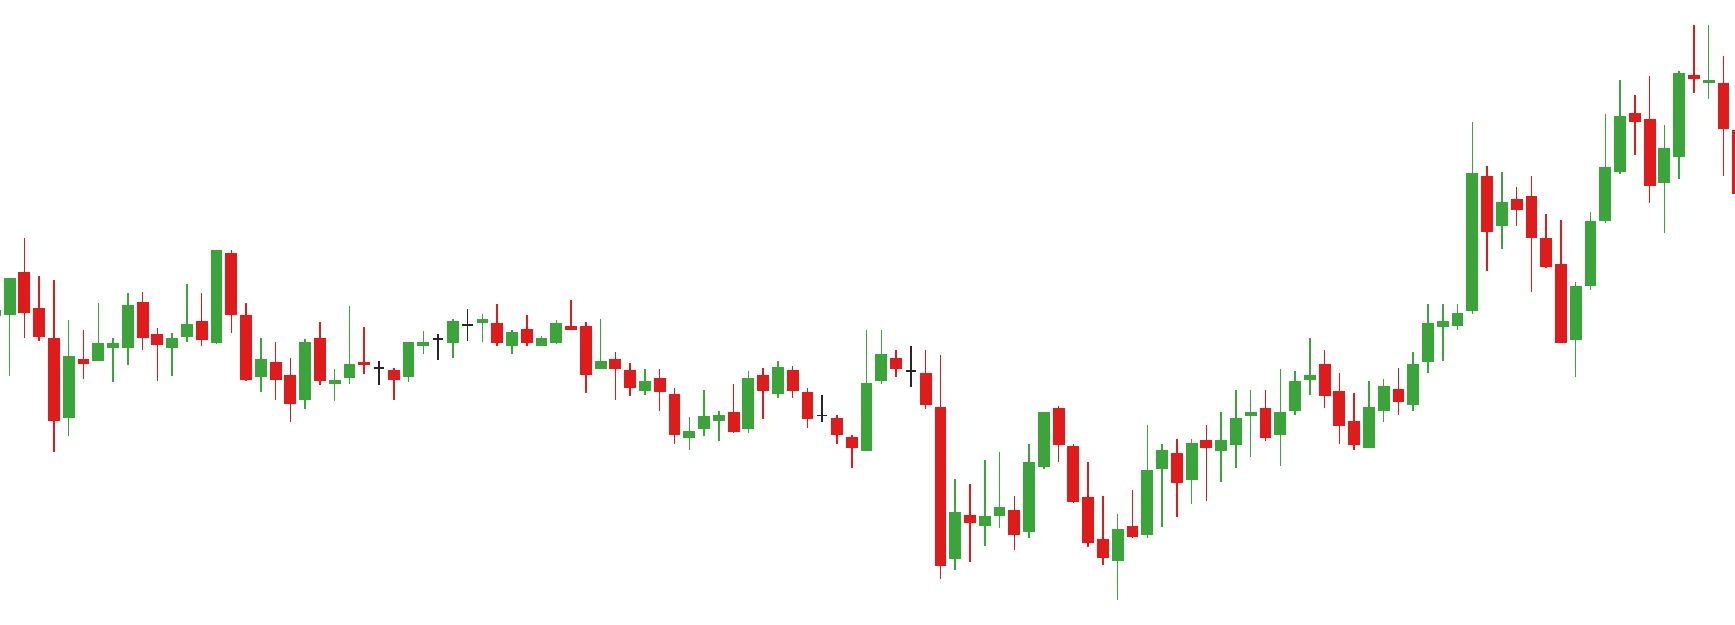buy: (950, 477, 1122, 606), (1436, 246, 1585, 374)
